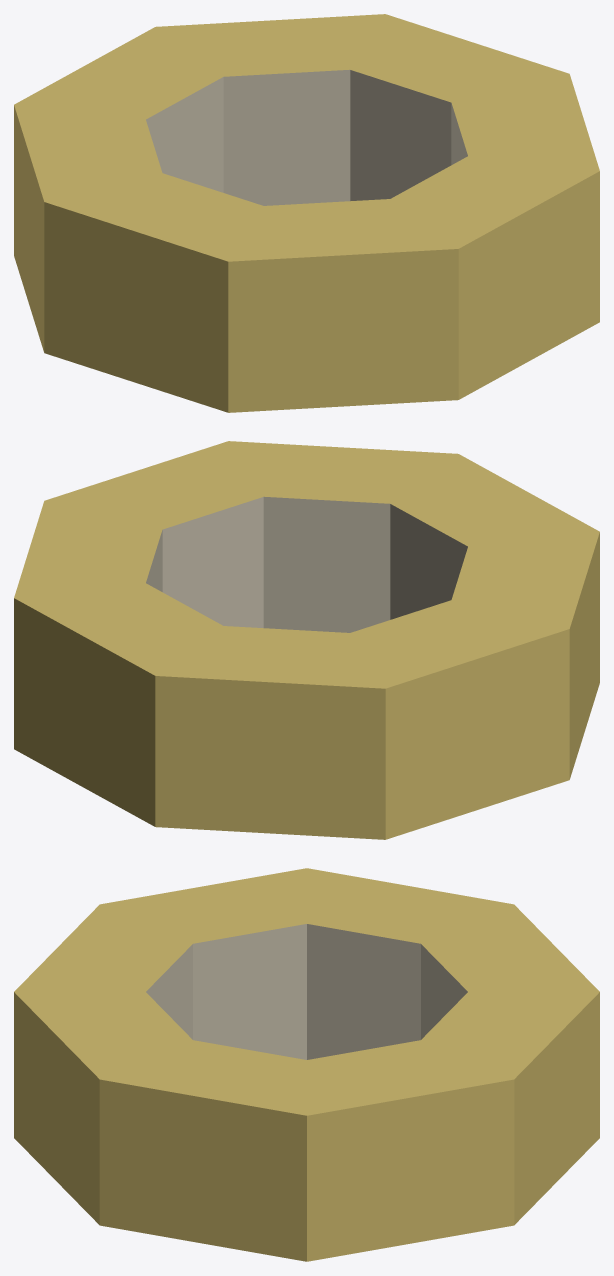
Rendered from tape.glb.
3 renders of one model, top to bottom at view 1: azimuth 30°, elevation 25°; view 2: azimuth 150°, elevation 25°; view 3: azimuth 270°, elevation 25°, orthographic. The views are drawn at different scales.
Visible parts, largest first — view 1: tape; view 2: tape; view 3: tape.
Part boxes in pixels (x1,y1,x2,y2): tape: [14, 14, 599, 412]; tape: [14, 441, 599, 839]; tape: [14, 868, 599, 1261].
Bounding box in the file's own units: 15 × 4.12 × 15.
